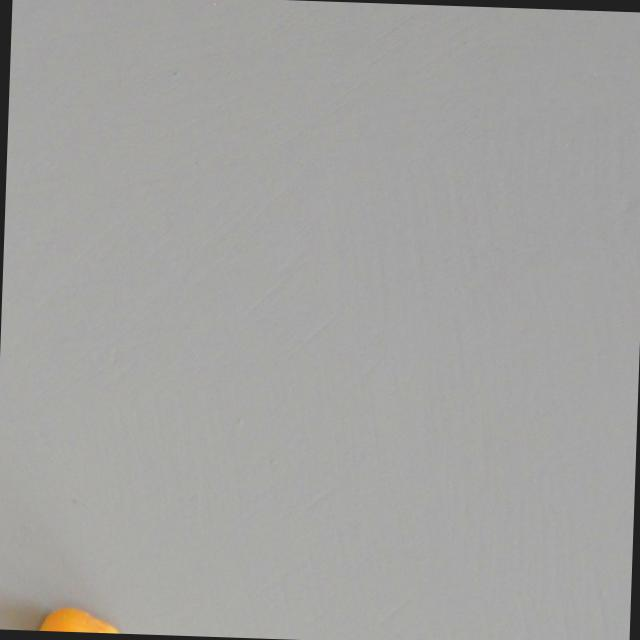pelicula: (26, 602, 128, 633)
